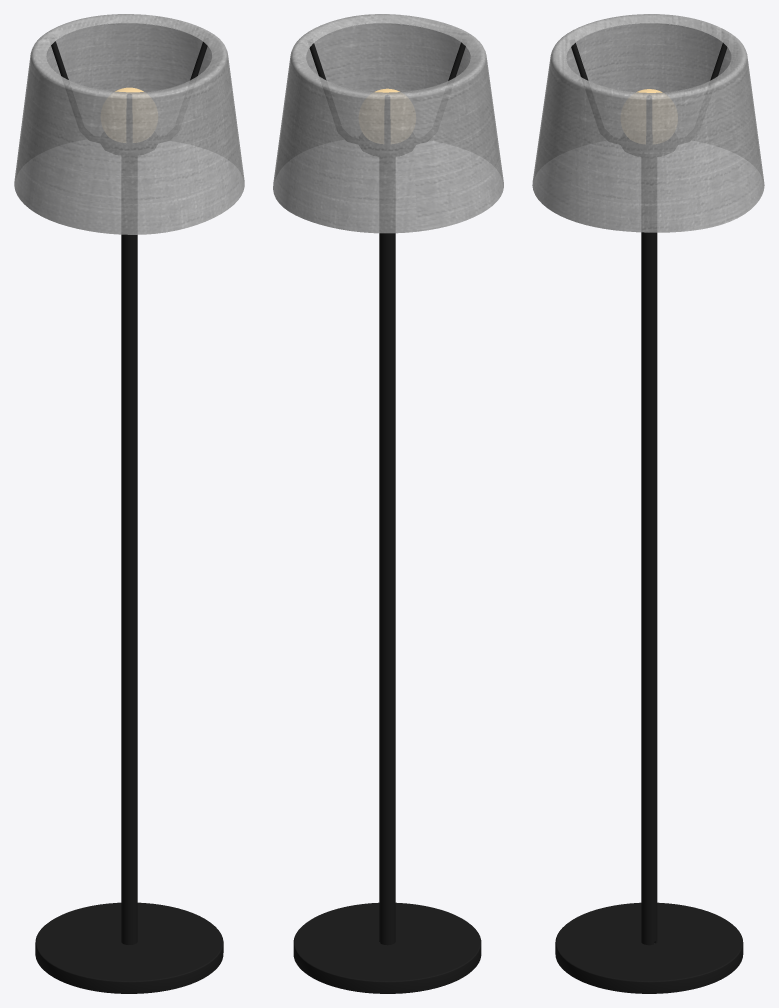
File: legacy-floor-lamp.glb
3 renders of one model, left to right at view 1: azimuth 30°, elevation 25°; view 2: azimuth 150°, elevation 25°; view 3: azimuth 270°, elevation 25°, orthographic.
Parts seen in each view (by area): view 1: FloorLamp_Cover, FloorLamp_Stem; view 2: FloorLamp_Cover, FloorLamp_Stem; view 3: FloorLamp_Cover, FloorLamp_Stem.
Part boxes in pixels (x1=…): FloorLamp_Cover: x1=14, y1=14, x2=244, y2=234; FloorLamp_Stem: x1=35, y1=41, x2=223, y2=993; FloorLamp_Cover: x1=273, y1=14, x2=503, y2=233; FloorLamp_Stem: x1=293, y1=39, x2=481, y2=993; FloorLamp_Cover: x1=532, y1=14, x2=764, y2=232; FloorLamp_Stem: x1=555, y1=40, x2=743, y2=993.
Bounding box in the file's own units: 0.391 × 1.69 × 0.3952.
Materials: 3 (1 with a texture image).
